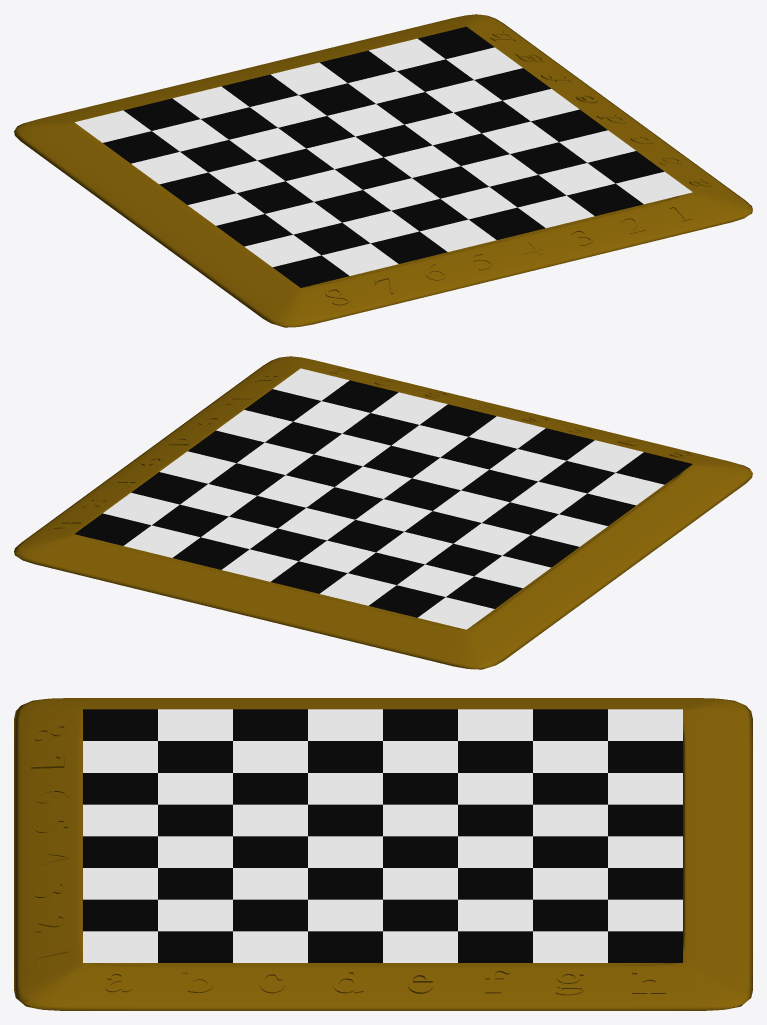
The model's file is Board.fbx.
3 renders of one model, top to bottom at view 1: azimuth 30°, elevation 25°; view 2: azimuth 150°, elevation 25°; view 3: azimuth 270°, elevation 25°, orthographic. The views are drawn at different scales.
Parts seen in each view (by area): view 1: pPlane1, polySurface51; view 2: pPlane1, polySurface51; view 3: pPlane1, polySurface51.
Part boxes in pixels (x1=…): pPlane1: x1=75, y1=26, x2=692, y2=287; polySurface51: x1=14, y1=14, x2=752, y2=327; pPlane1: x1=75, y1=368, x2=692, y2=629; polySurface51: x1=14, y1=356, x2=752, y2=669; pPlane1: x1=83, y1=709, x2=682, y2=962; polySurface51: x1=14, y1=698, x2=752, y2=1010.
Size of the model in its own units: 124 by 4.05 by 124.
